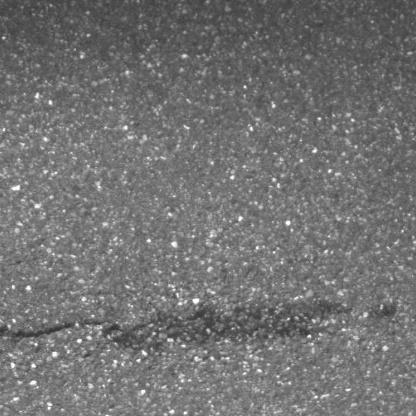Cracks: (0, 317, 75, 345)
